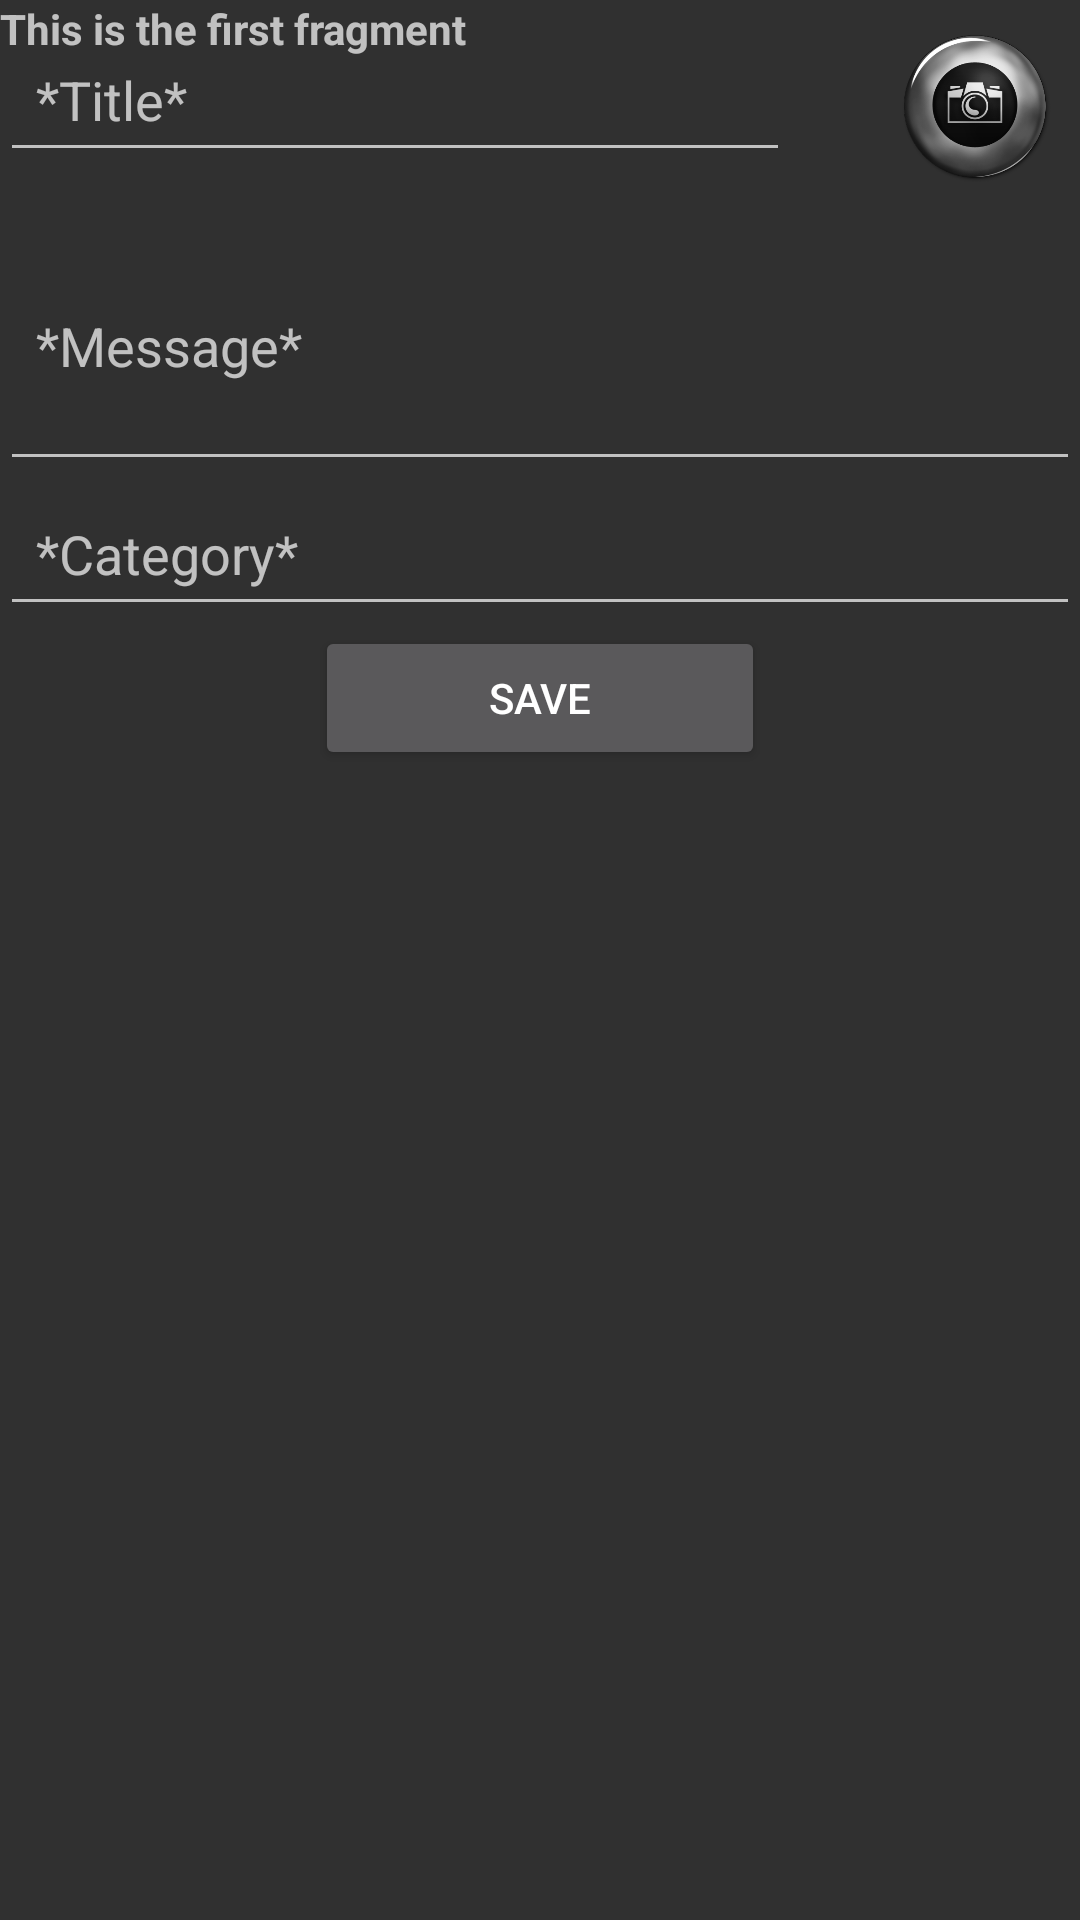

Locate icon controls on the screen. Image size 1080w x 1920h, boxes as [x1,y1,x2,y2].
darkcamera: [908,36,1046,178]
